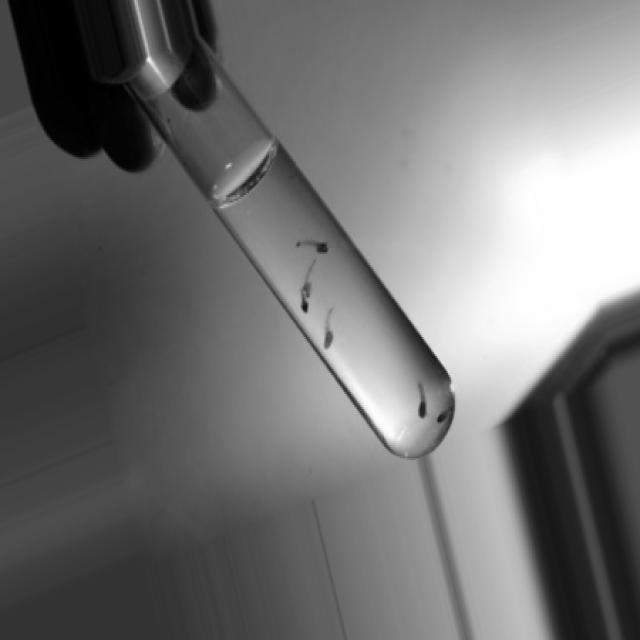larvas: (294, 238, 331, 254), (325, 301, 336, 351), (418, 380, 431, 420), (306, 257, 316, 290), (438, 405, 450, 421), (301, 288, 309, 310)
